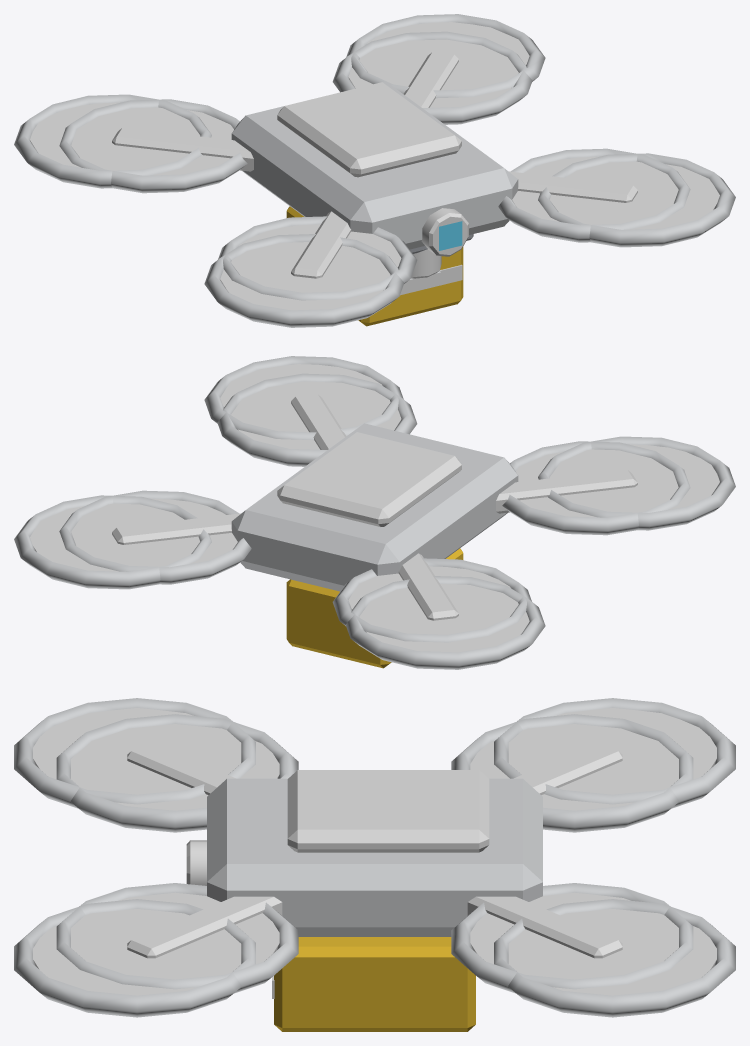
File: drones.glb
3 renders of one model, top to bottom at view 1: azimuth 30°, elevation 25°; view 2: azimuth 150°, elevation 25°; view 3: azimuth 270°, elevation 25°, orthographic. The views are drawn at different scales.
Parts seen in each view (by area): view 1: drone_v0, drone_v2, drone_v1; view 2: drone_v0, drone_v2, drone_v1; view 3: drone_v0, drone_v2, drone_v1.
Boxes of the visible parts, x1,y1,x2,y2 form: drone_v0: (59,31,690,300); drone_v2: (14,14,735,327); drone_v1: (286,206,463,326); drone_v0: (59,373,690,642); drone_v2: (14,356,735,669); drone_v1: (286,548,463,668); drone_v0: (56,714,693,993); drone_v2: (14,698,735,1017); drone_v1: (272,937,475,1031).
Bounding box in the file's own units: 1.08 × 0.335 × 1.07.
